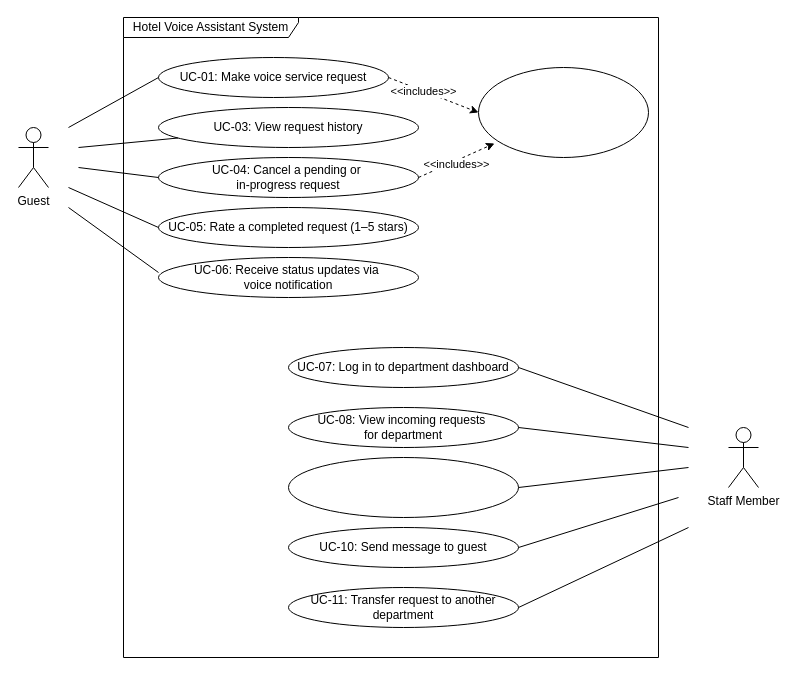
This 796x675 diagram has some shape labels left out. Here are the shapes that lost their labels. From the top down, the box of each, then its label:
(478, 66, 648, 158): UC-02: Confirm or reject recognized request
(288, 456, 518, 518): UC-09: Update request status (pending / in progress / completed)
